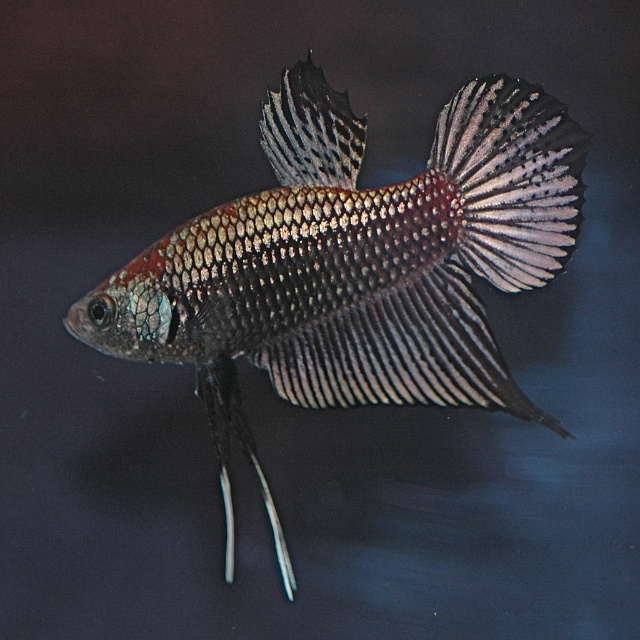Fish: (61, 47, 590, 594)
